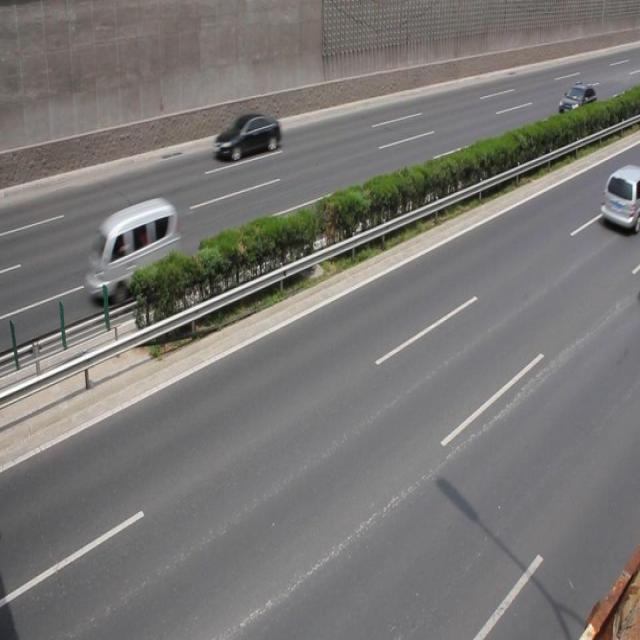car: (212, 114, 281, 162), (557, 81, 596, 123)
truck: (84, 195, 180, 308), (598, 166, 640, 231)
